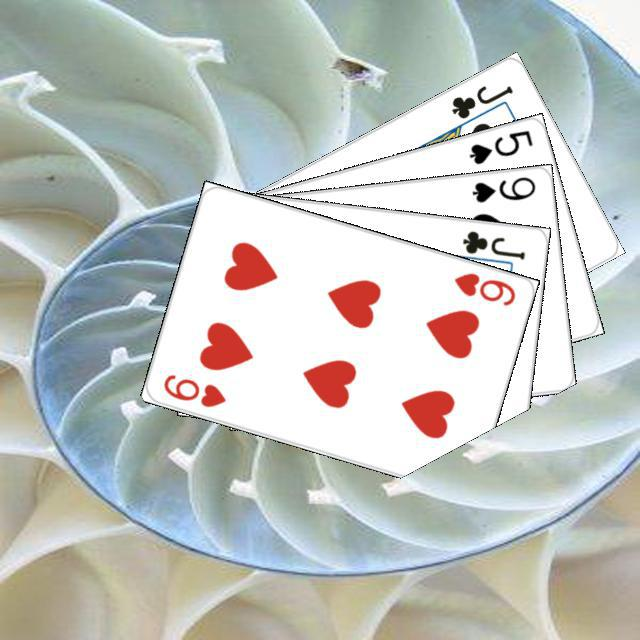5s: (464, 125, 535, 166)
6h: (158, 369, 228, 409), (449, 267, 517, 308)
9s: (467, 171, 537, 205)
Jc: (446, 80, 515, 121), (457, 225, 527, 262)
